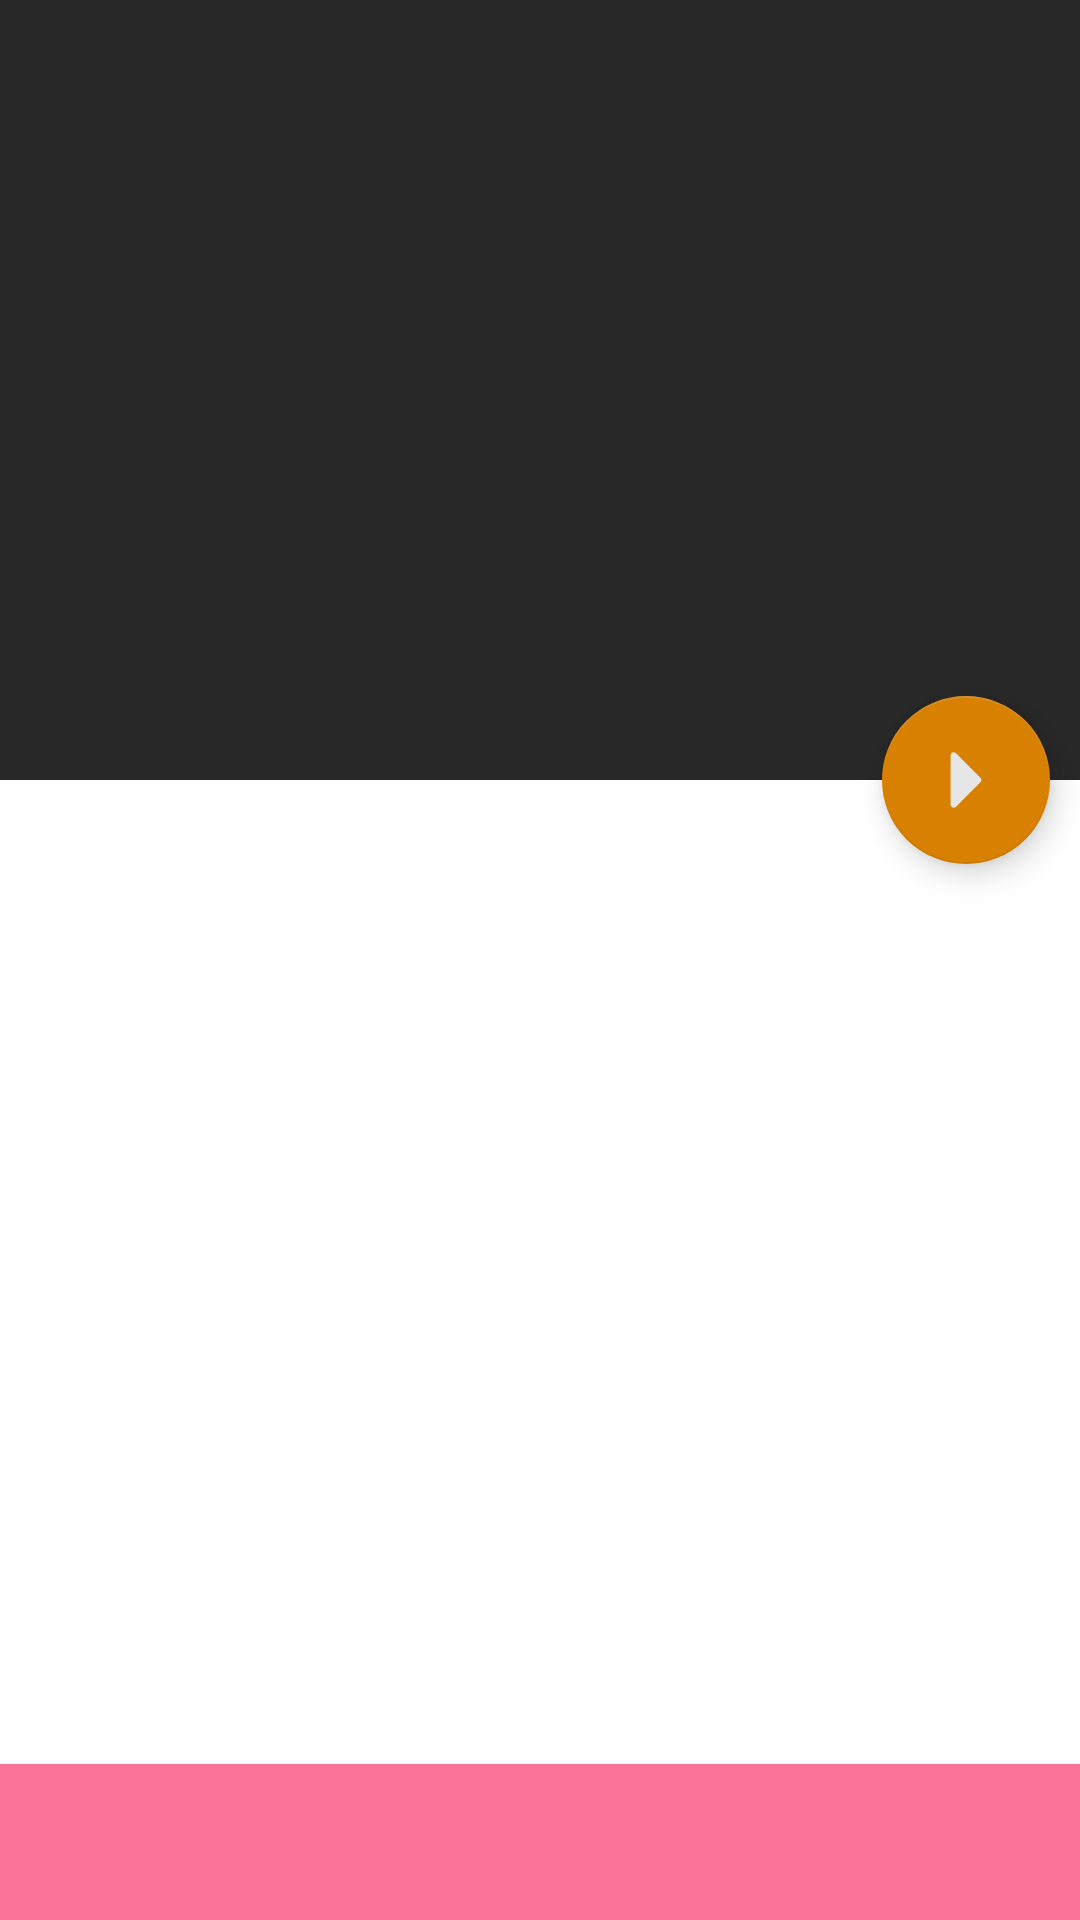

Point at icon controls on the screen. Image size 1080 x 1920, points as (x,y).
right triangle: (966,780)
